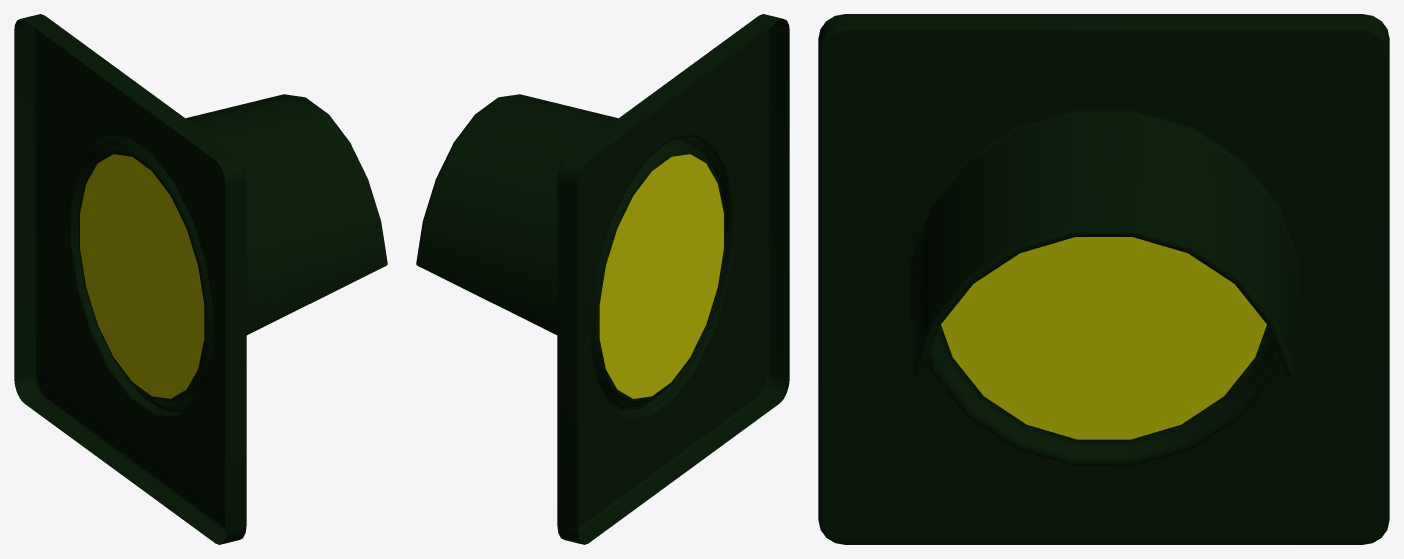
The model's file is Lamp.fbx.
3 views of the same model, side by side, from view 1: azimuth 30°, elevation 25°; view 2: azimuth 150°, elevation 25°; view 3: azimuth 270°, elevation 25° (orthographic). The views are drawn at different scales.
Parts seen in each view (by area): view 1: Lamp; view 2: Lamp; view 3: Lamp.
Boxes of the visible parts, <box> form: Lamp: <box>14,14,387,544</box>; Lamp: <box>416,14,789,544</box>; Lamp: <box>818,14,1389,544</box>.
Size of the model in its own units: 21.65 by 40 by 40.
